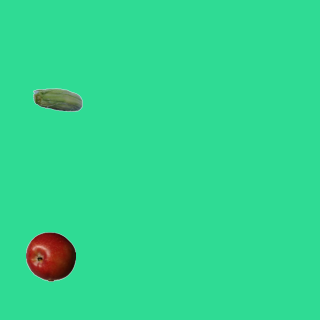Apple Braeburn: (25, 231, 75, 281)
Corn Husk: (32, 76, 82, 126)
